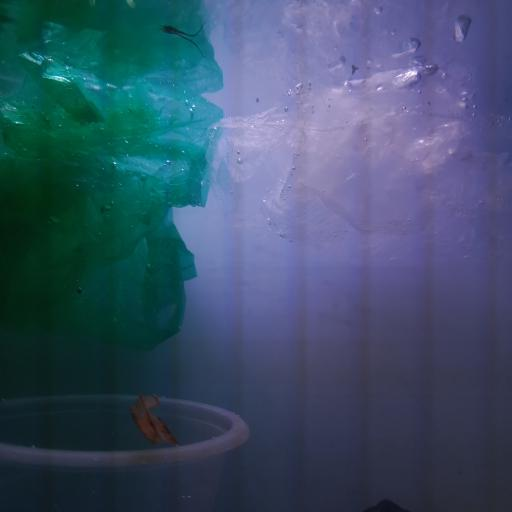plastic_bag: (0, 49, 223, 357), (201, 69, 474, 249)
plastic_cup: (0, 390, 249, 512)
